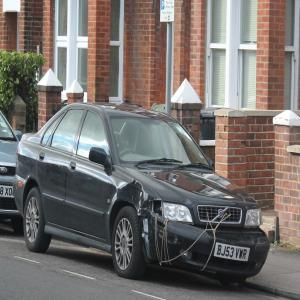Vehicle-registration-plate: (217, 243, 251, 261), (1, 185, 15, 198)
